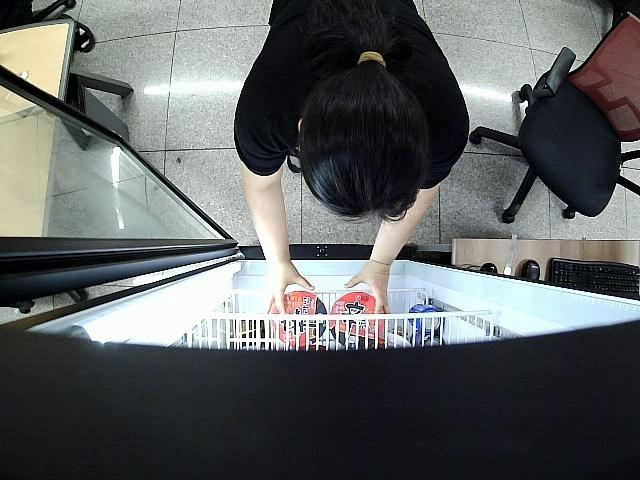01_ShinRamen_L: (329, 292, 386, 348), (270, 290, 326, 346)
